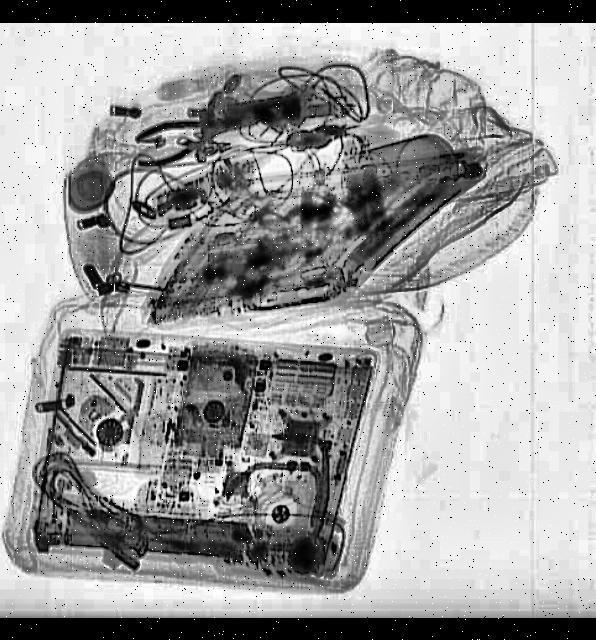Pliers: (132, 92, 268, 175)
